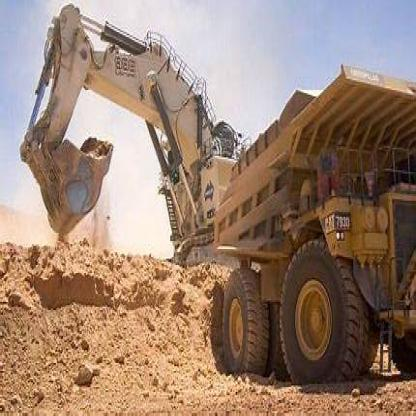dump_truck: (192, 58, 415, 385)
excavator: (18, 1, 245, 312)
